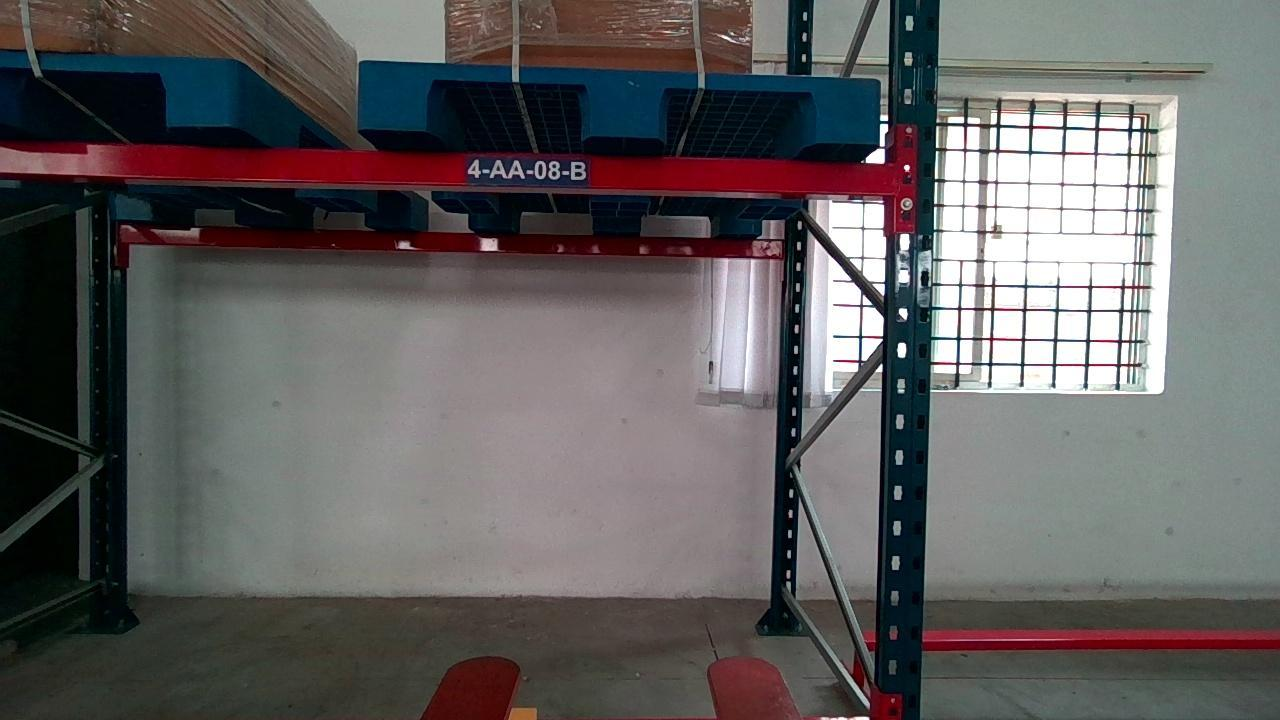small_pallet: (357, 63, 880, 145)
